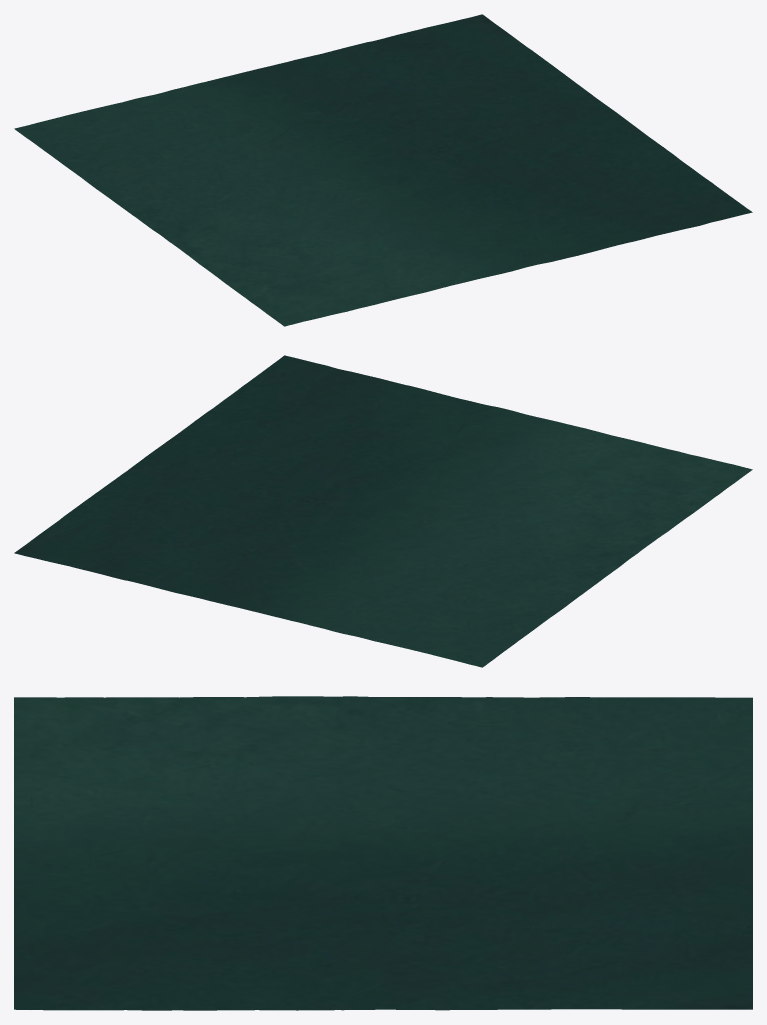
3 renders of one model, top to bottom at view 1: azimuth 30°, elevation 25°; view 2: azimuth 150°, elevation 25°; view 3: azimuth 270°, elevation 25°, orthographic. The views are drawn at different scales.
Size of the model in its own units: 209 by 0.7606 by 209.
3 materials, 3 textured.
